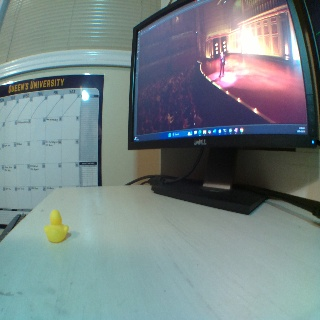duck_regular: (44, 208, 69, 242)
